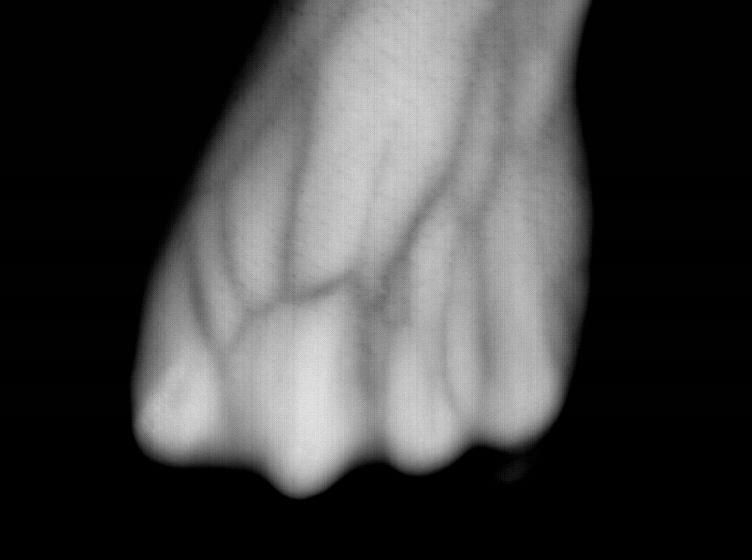Vein: (282, 67, 453, 360)
